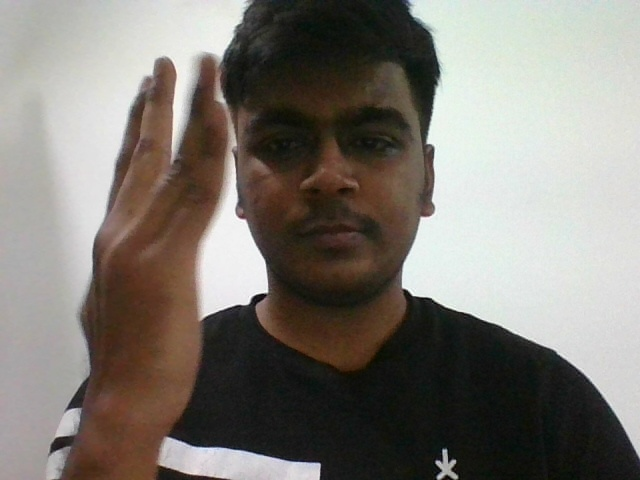livelong: (80, 53, 221, 417)
